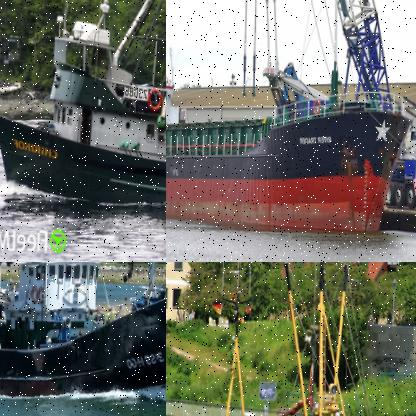Fishing Boat: (0, 0, 165, 210), (187, 262, 400, 415), (0, 262, 165, 406)
Merchant Ship: (166, 0, 415, 236)
